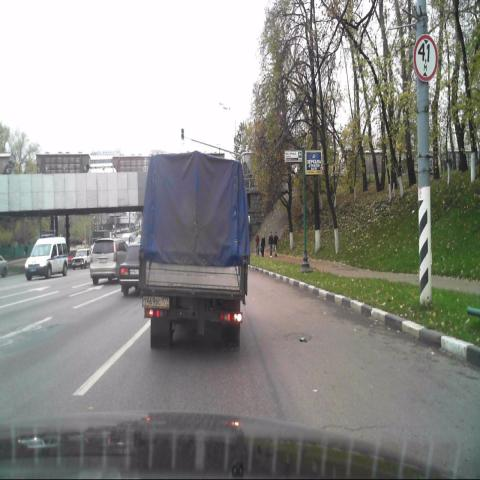3_13: (411, 33, 439, 81)
